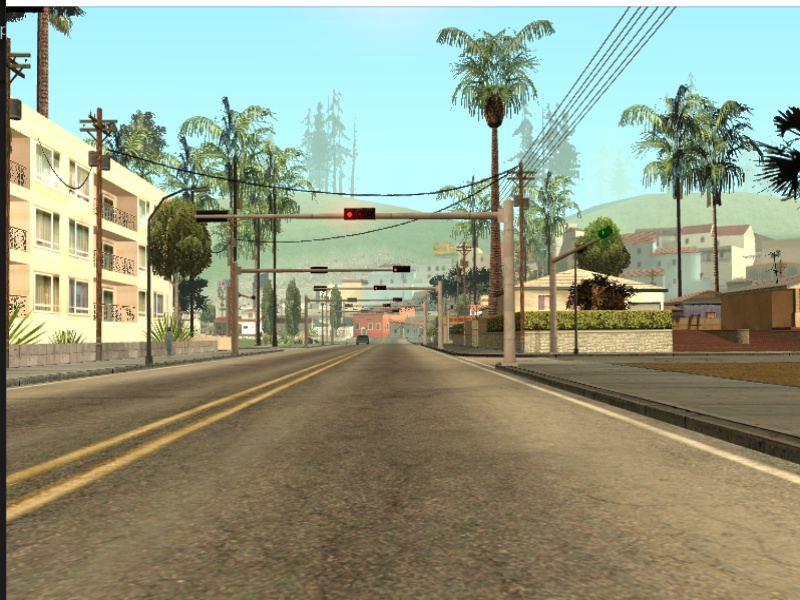person: (164, 326, 177, 357)
pole: (83, 112, 116, 359), (493, 199, 524, 366), (543, 251, 562, 354), (146, 209, 158, 366), (224, 262, 244, 355), (434, 282, 448, 349), (573, 254, 581, 356), (300, 294, 312, 350), (420, 301, 431, 347)
tree: (269, 203, 282, 351), (254, 216, 262, 350)
vehicle: (355, 334, 373, 348)
